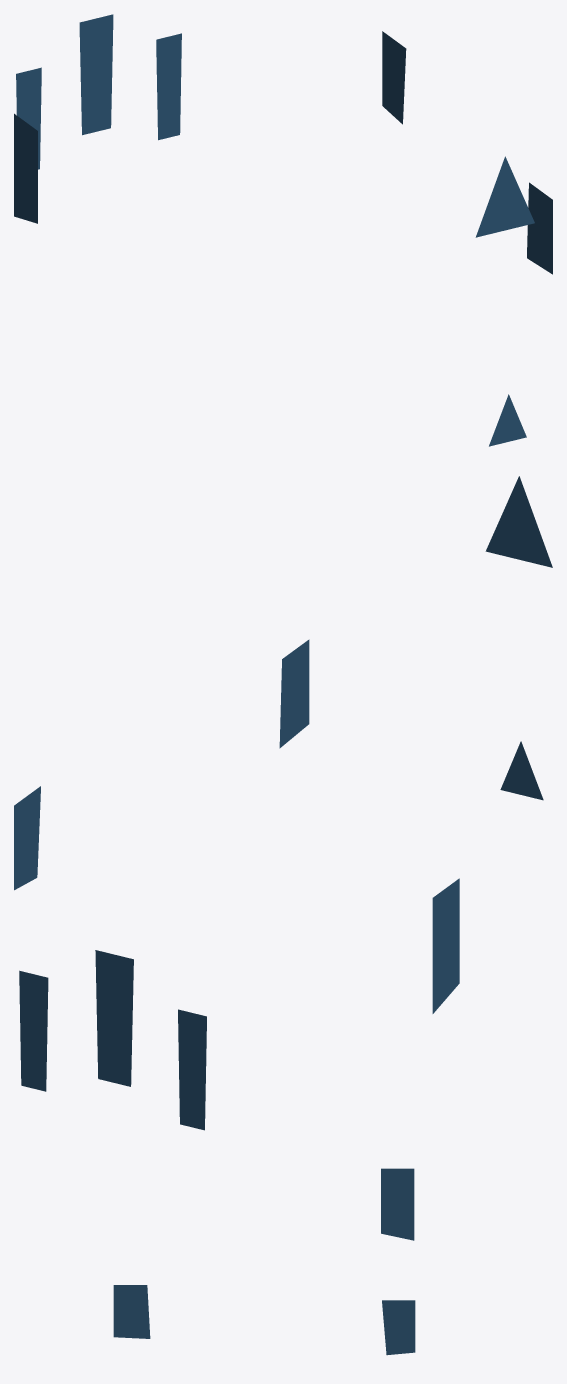
File: Maison04_Windows.fbx
3 renders of one model, top to bottom at view 1: azimuth 30°, elevation 25°; view 2: azimuth 150°, elevation 25°; view 3: azimuth 270°, elevation 25°, orthographic. The views are drawn at different scales.
Parts seen in each view (by area): view 1: Maison4_Windows; view 2: Maison4_Windows; view 3: Maison4_Windows.
Boxes of the visible parts, bbox=[...] form: Maison4_Windows: bbox=[14, 14, 552, 446]; Maison4_Windows: bbox=[14, 476, 552, 1130]; Maison4_Windows: bbox=[113, 1168, 415, 1355].
Bounding box in the file's own units: 42.15 × 31.02 × 76.28.
